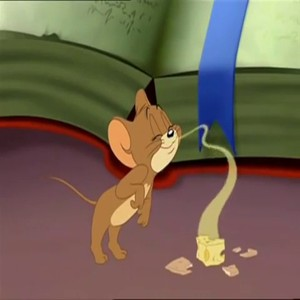Jerry: (86, 88, 179, 277)
